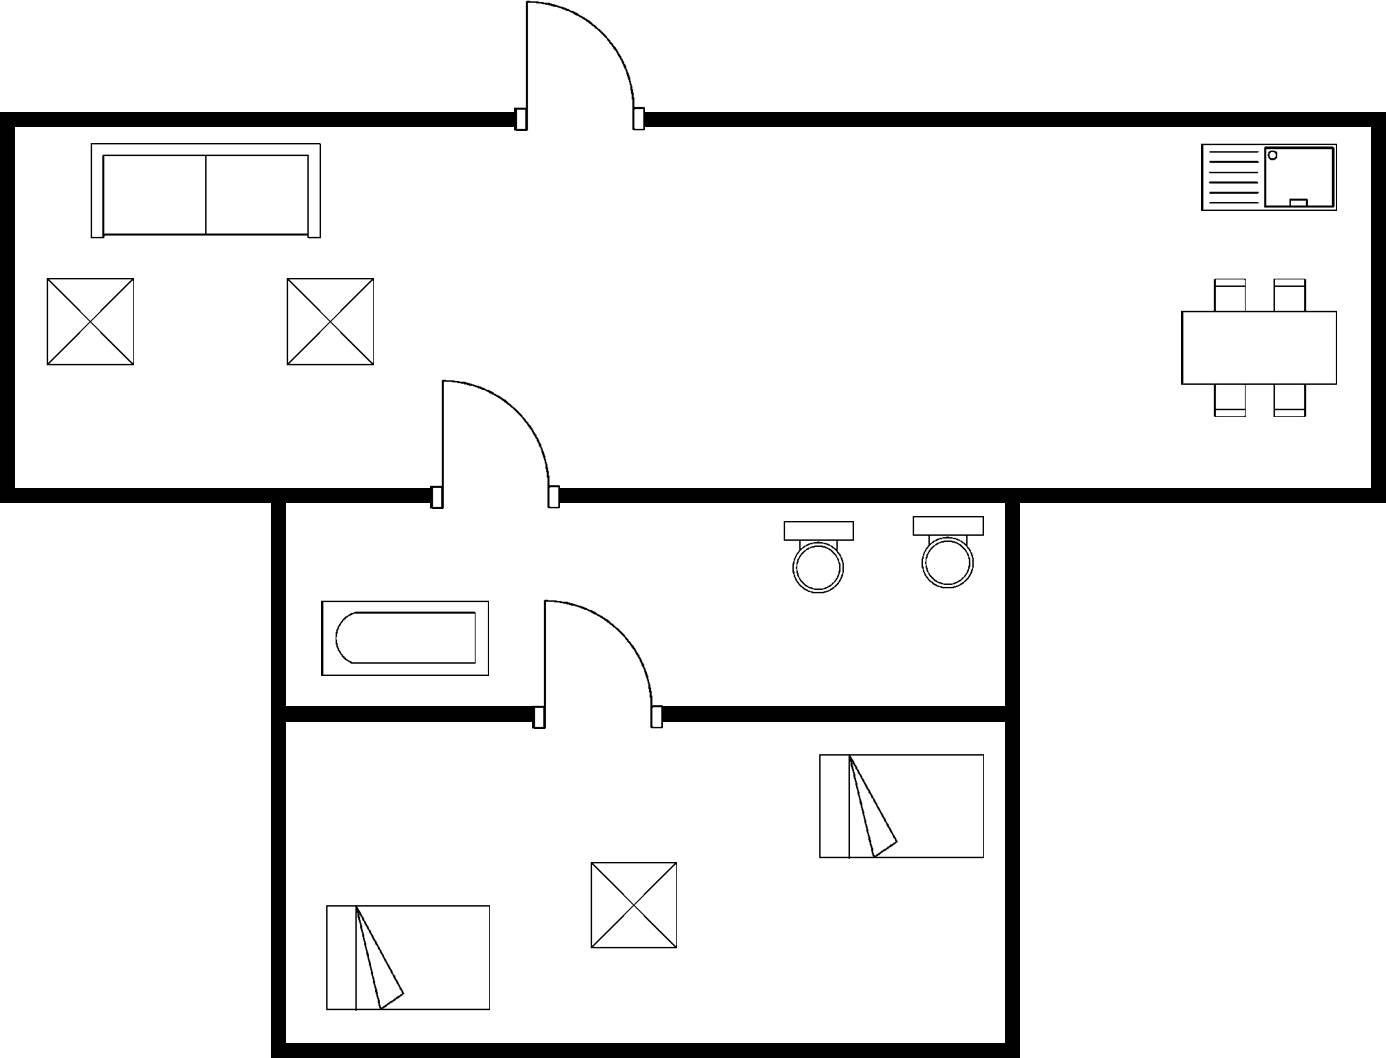bed: (318, 897, 496, 1017), (812, 747, 987, 864)
dining_table: (1175, 270, 1340, 421)
sink: (1194, 136, 1342, 216)
sofa: (82, 134, 326, 242)
toilet: (904, 511, 987, 593), (778, 515, 858, 597)
tub: (315, 593, 493, 682)
